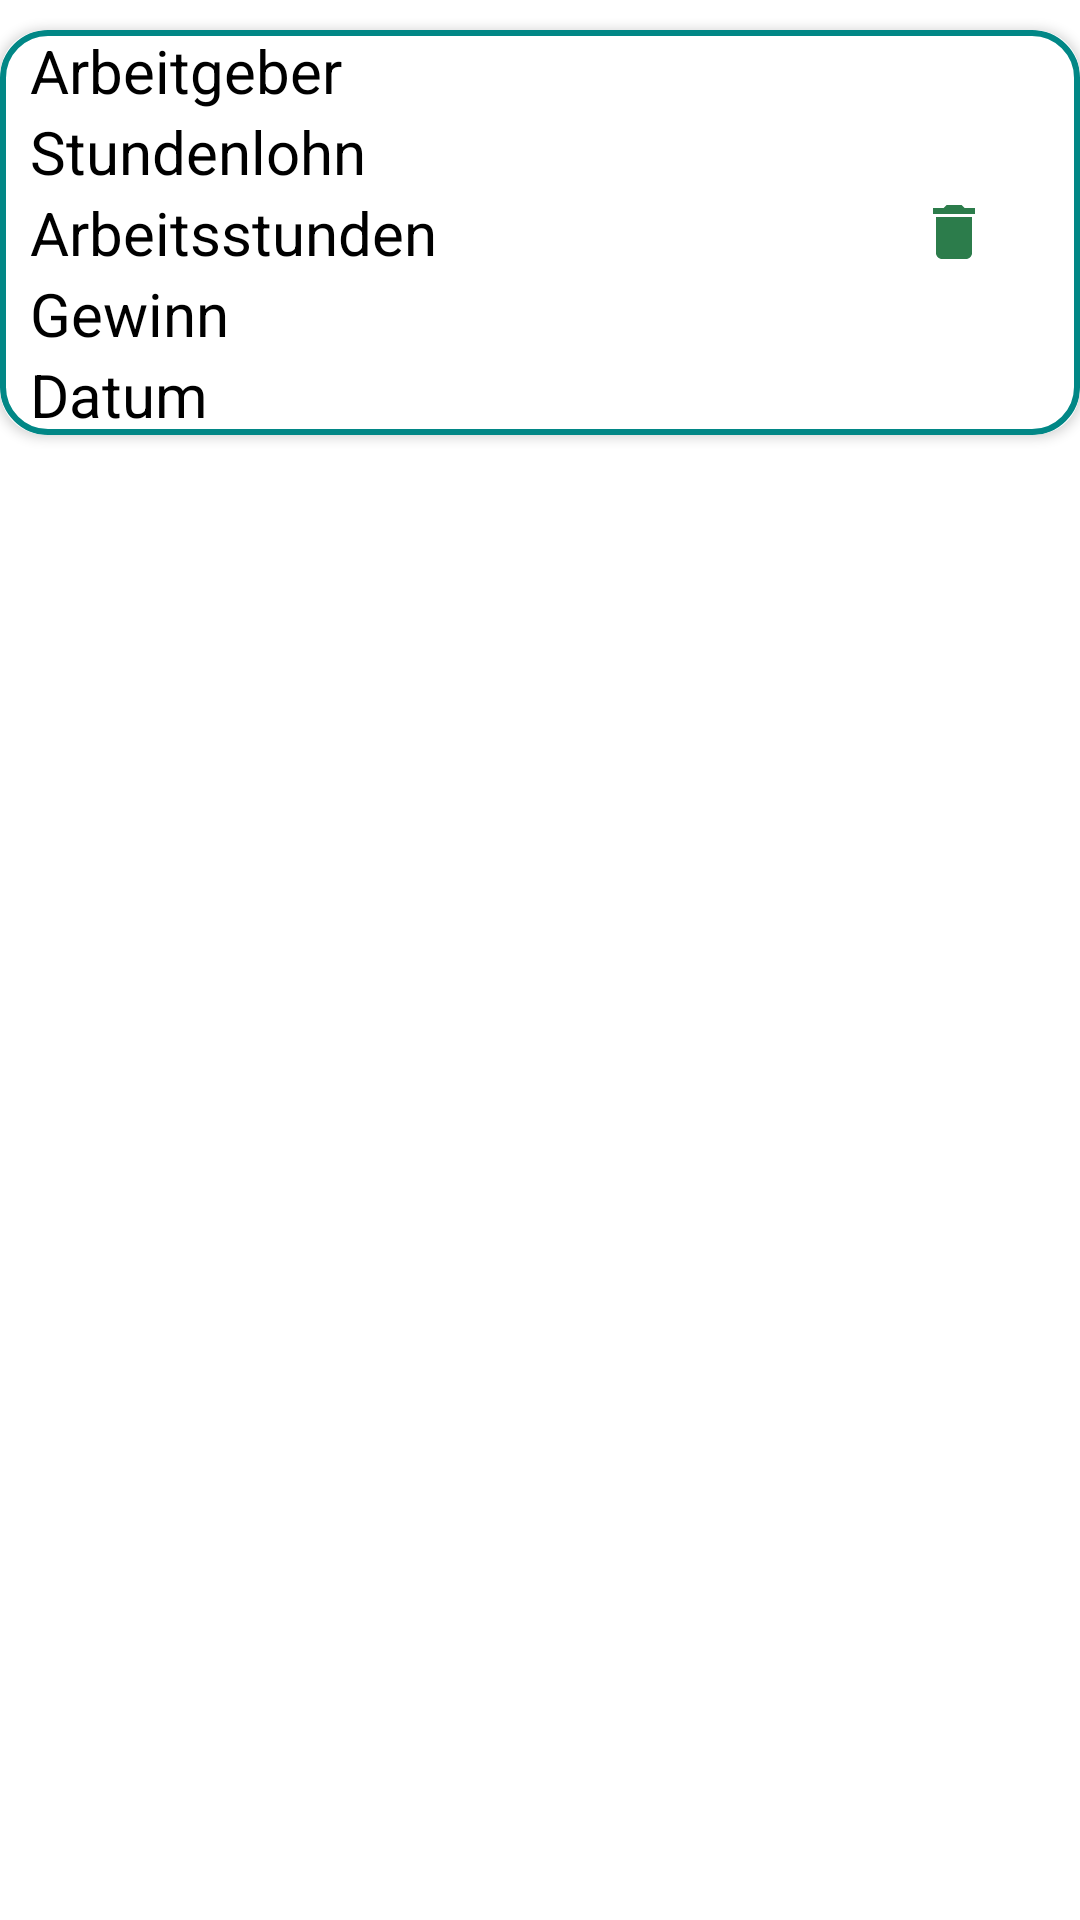

Locate icon controls on the screen. Image size 1080 × 1920, boxes as [x1,y1,x2,y2].
Löschen Knopf: [933,205,975,259]
